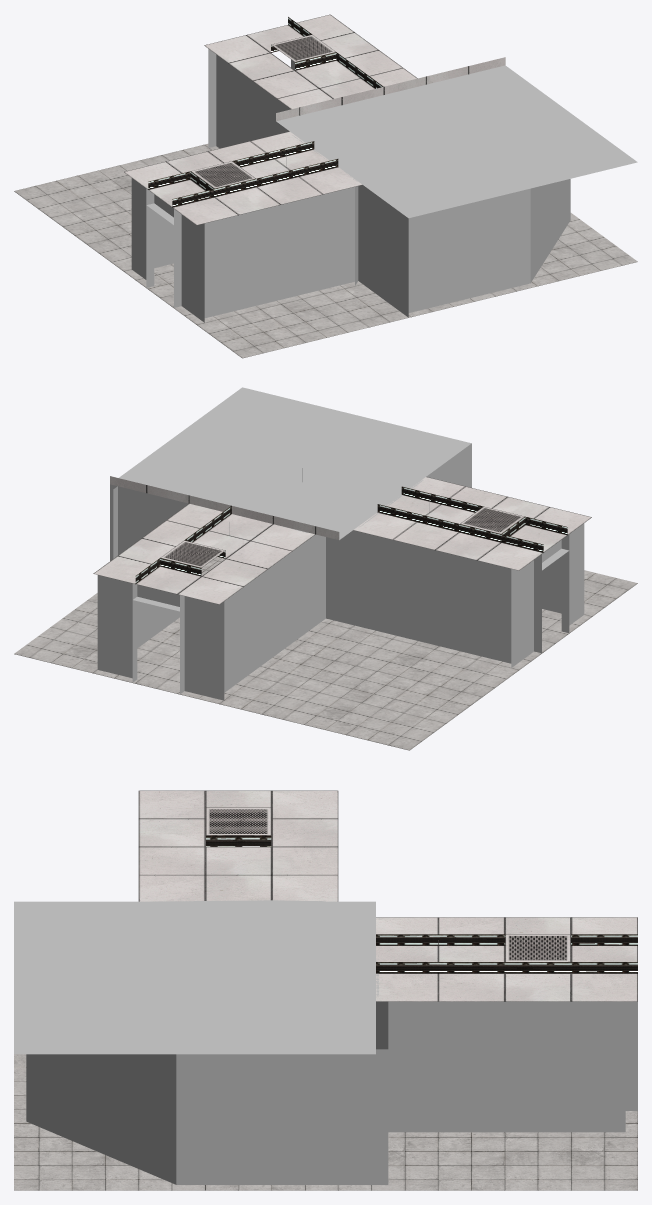
The model's file is room2Cz3_opt.fbx.
3 views of the same model, one above another, from view 1: azimuth 30°, elevation 25°; view 2: azimuth 150°, elevation 25°; view 3: azimuth 270°, elevation 25° (orthographic). The views are drawn at different scales.
Visible parts, largest first — view 1: Scene_Root; view 2: Scene_Root; view 3: Scene_Root.
Part boxes in pixels (box(x1,y1,x2,y2)): Scene_Root: box(14, 14, 637, 358); Scene_Root: box(14, 387, 637, 750); Scene_Root: box(14, 790, 637, 1190).
Size of the model in its own units: 1160 by 319 by 1160.
